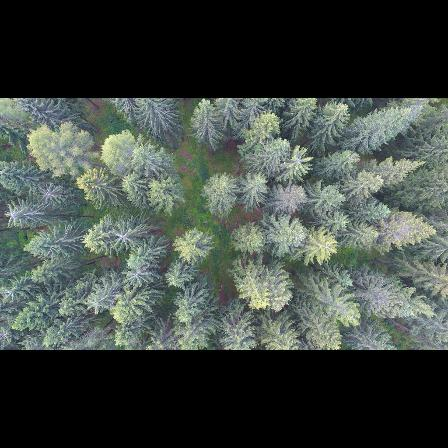Sick: (118, 265, 151, 292), (110, 224, 136, 252), (2, 202, 28, 227), (39, 187, 63, 207), (0, 324, 14, 347)
